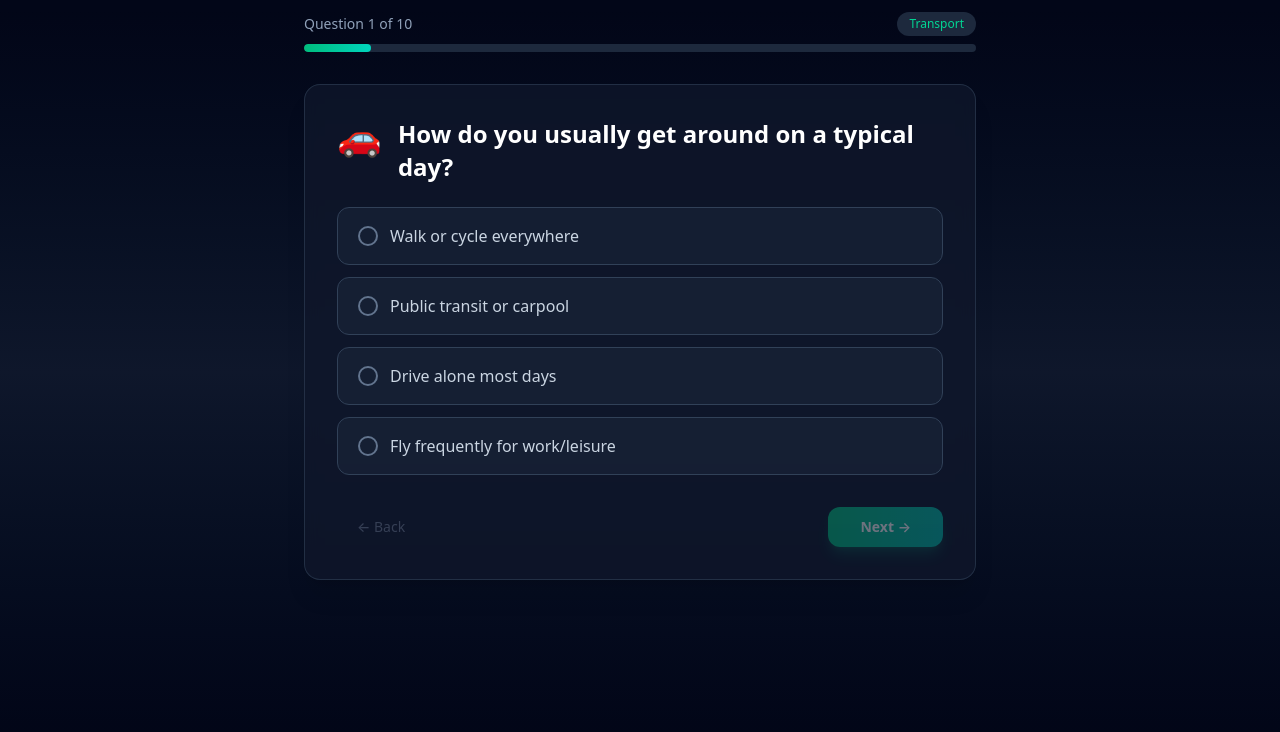
Quiz component › allows selecting an answer and enables the Next button
Click the radio button labelled "Walk or cycle everywhere".
click(485, 236)  # box [337, 207, 943, 265]
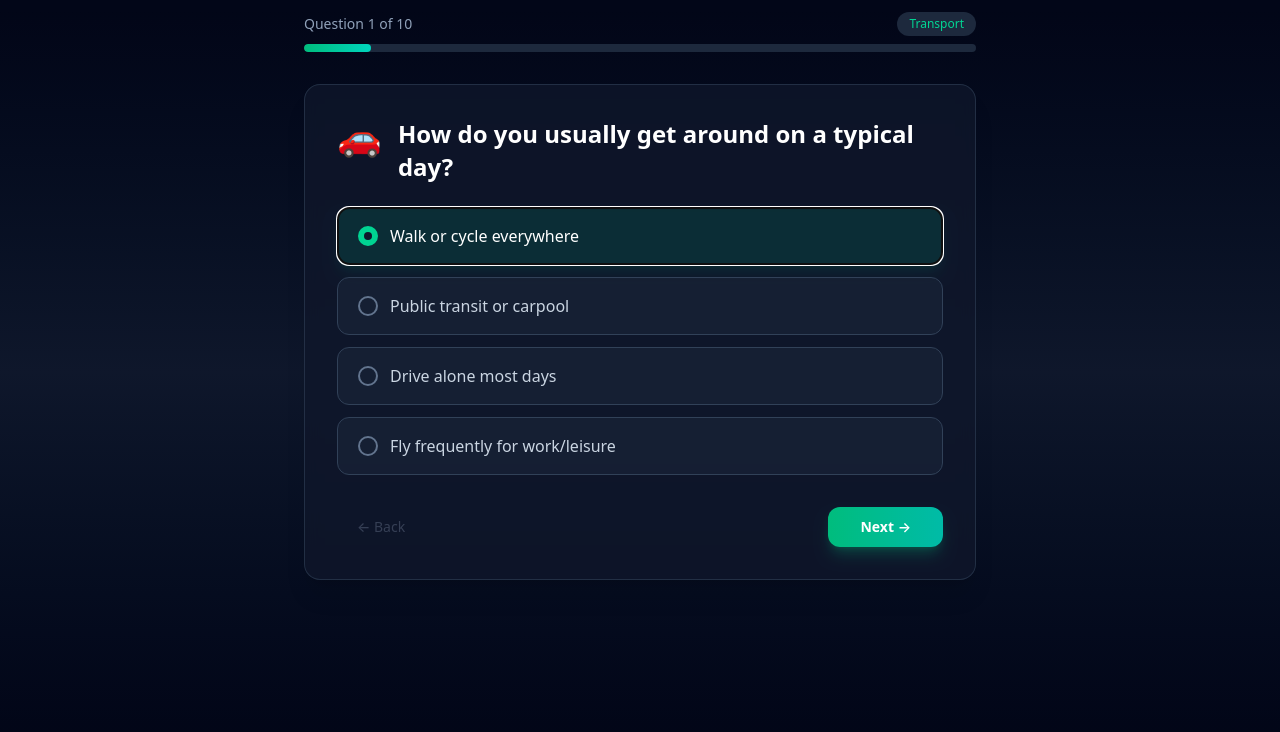
Result: the button "Next →" is enabled at [828, 507, 943, 547]
